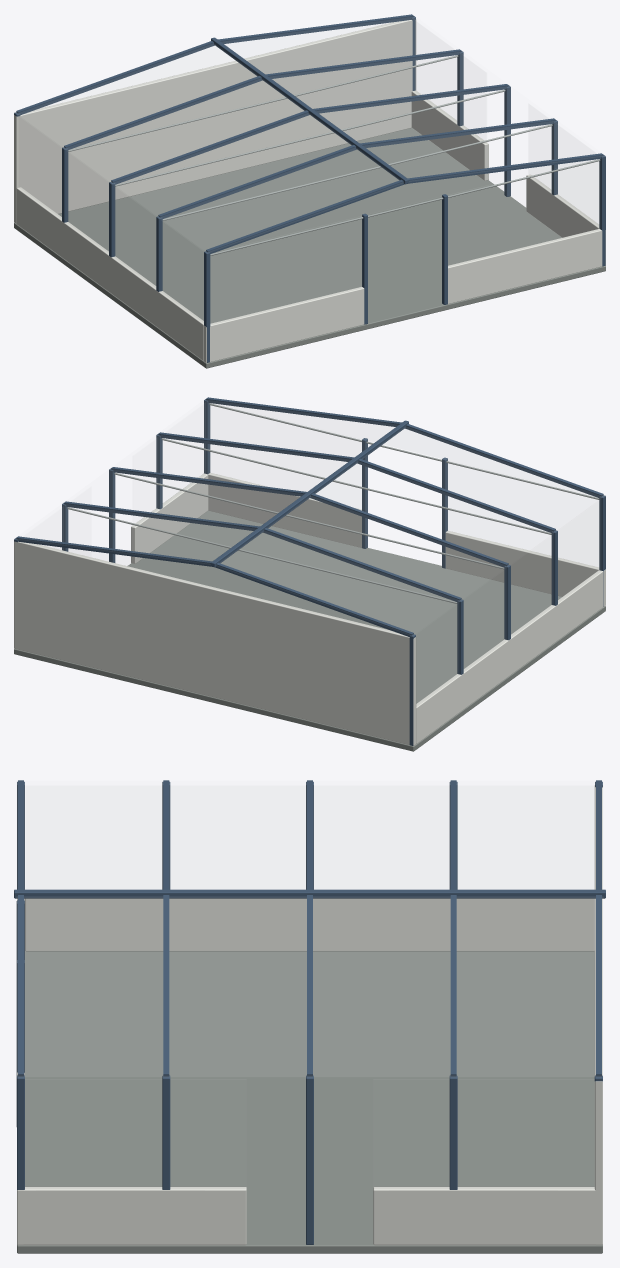
File: spacecraft-parachute-packing-hall-spacecraft-parachute-d1897038__32074.glb
The picture shows the model from 3 angles, top to bottom: view 1: azimuth 30°, elevation 25°; view 2: azimuth 150°, elevation 25°; view 3: azimuth 270°, elevation 25°; orthographic projection. The views are drawn at different scales.
Parts seen in each view (by area): view 1: spacecraft-parachute-packing-hall-roofed-parachute-packing-h (×5); view 2: spacecraft-parachute-packing-hall-roofed-parachute-packing-h (×5); view 3: spacecraft-parachute-packing-hall-roofed-parachute-packing-h (×4).
Part boxes in pixels (x1,y1,x2,y2): spacecraft-parachute-packing-hall-roofed-parachute-packing-h (×5): [14, 14, 605, 368]; spacecraft-parachute-packing-hall-roofed-parachute-packing-h (×5): [14, 397, 605, 751]; spacecraft-parachute-packing-hall-roofed-parachute-packing-h (×4): [14, 780, 605, 1253].
Size of the model in its own units: 12 by 4.04 by 10.1.
